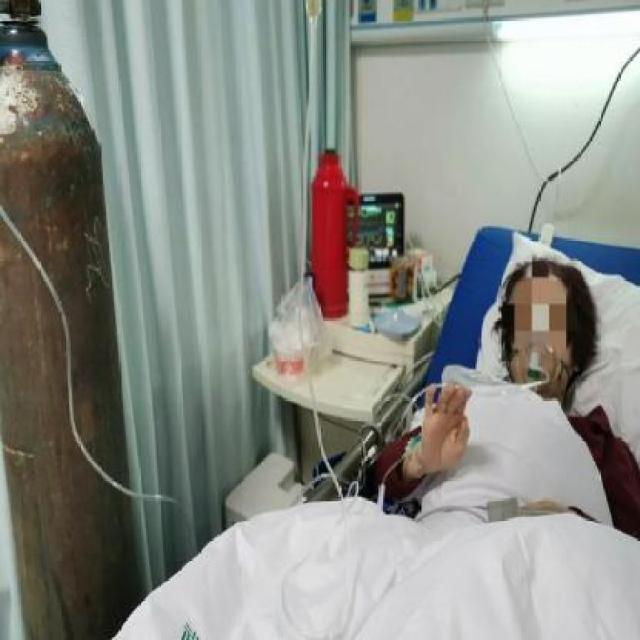hand_noglove: (406, 382, 474, 482)
person: (367, 255, 640, 547)
